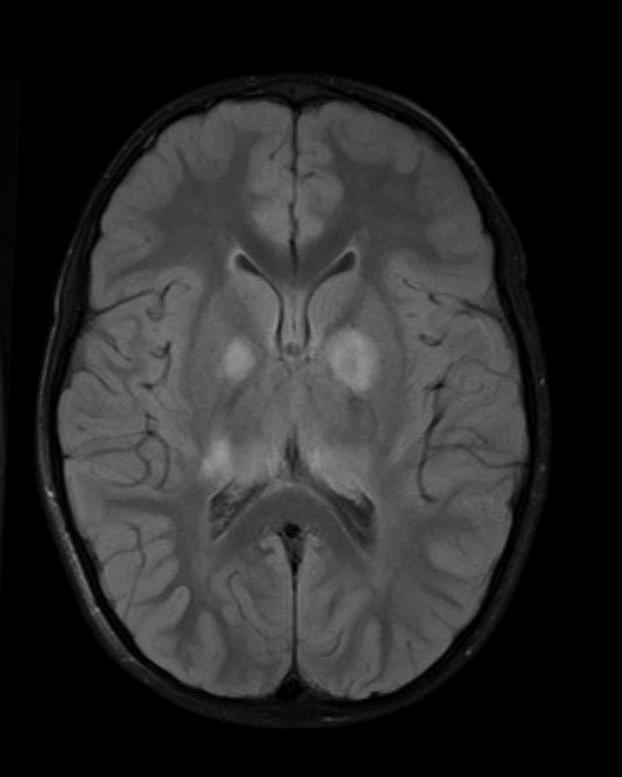Normal_Brain: (1, 11, 622, 777)
